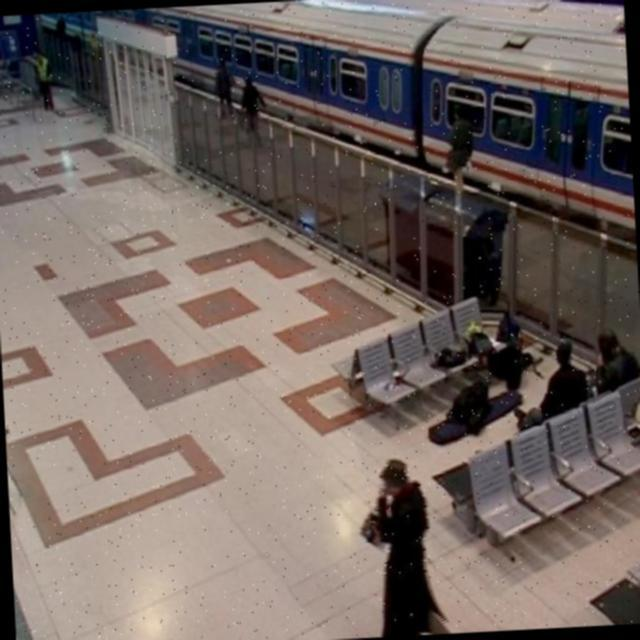person: (348, 451, 460, 638), (238, 71, 269, 150)
